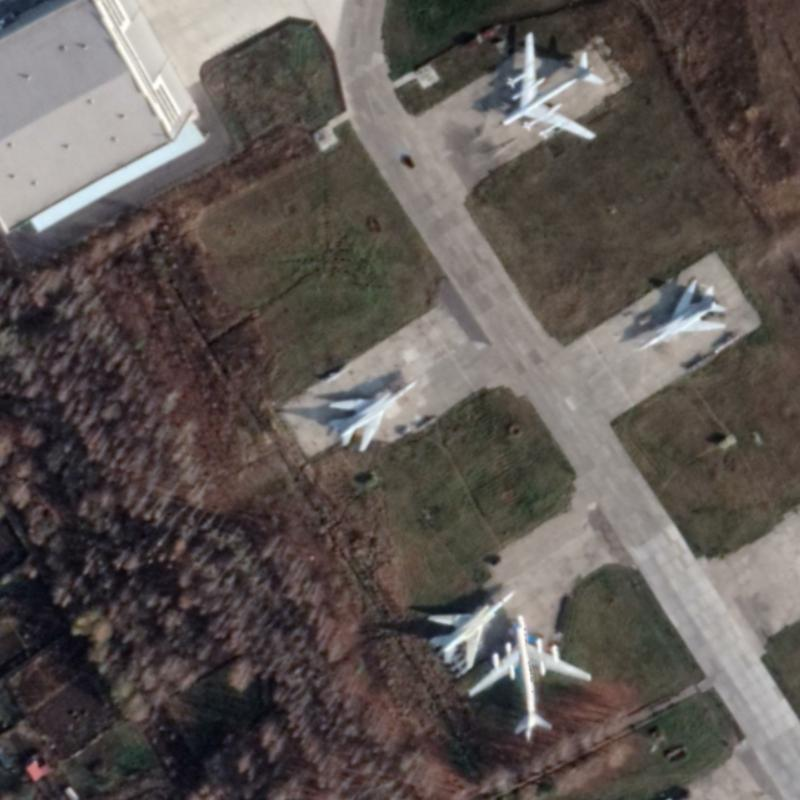A12: (424, 587, 516, 671), (325, 377, 419, 452), (637, 275, 727, 350)
A17: (464, 611, 594, 742), (495, 28, 607, 142)
